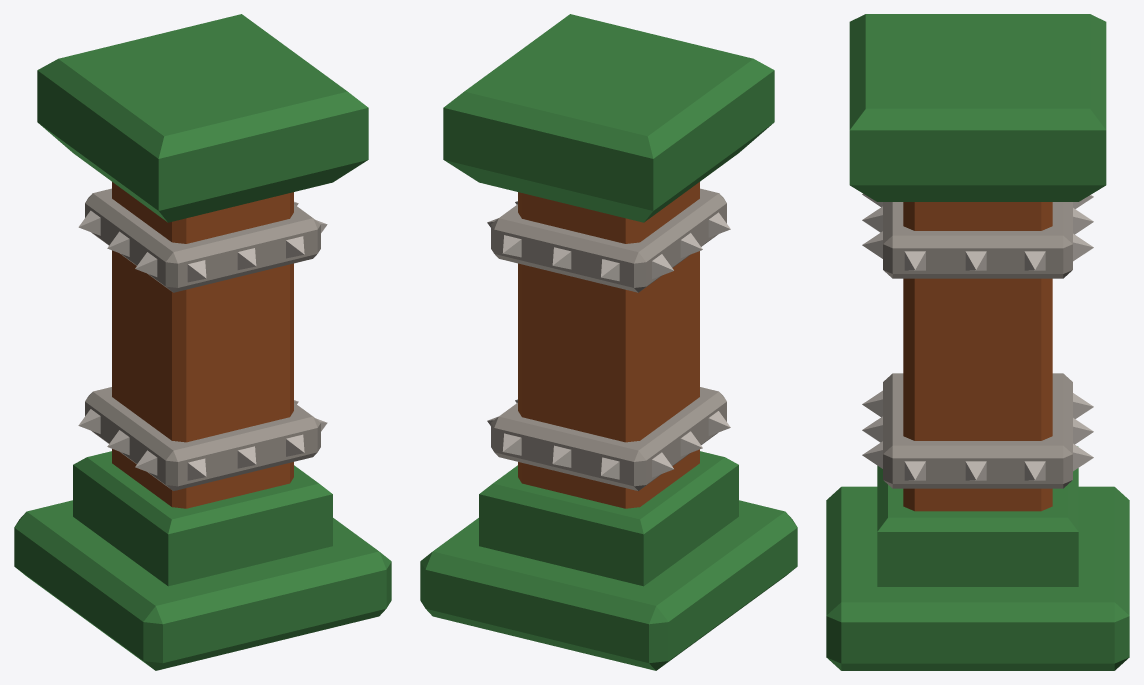
The model's file is m_dec_dung_pillar.fbx.
3 views of the same model, side by side, from view 1: azimuth 30°, elevation 25°; view 2: azimuth 150°, elevation 25°; view 3: azimuth 270°, elevation 25° (orthographic). The views are drawn at different scales.
Visible parts, largest first — view 1: m_dec_dung_pillar; view 2: m_dec_dung_pillar; view 3: m_dec_dung_pillar.
Boxes of the visible parts, <box> form: m_dec_dung_pillar: <box>14,14,391,670</box>; m_dec_dung_pillar: <box>420,14,797,670</box>; m_dec_dung_pillar: <box>826,14,1129,670</box>.
Bounding box in the file's own units: 2 × 4.01 × 2.
